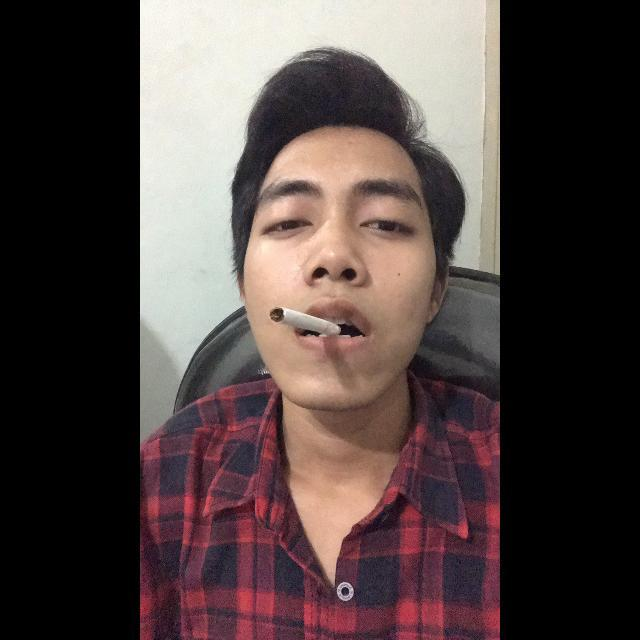rokok: (268, 302, 346, 342)
